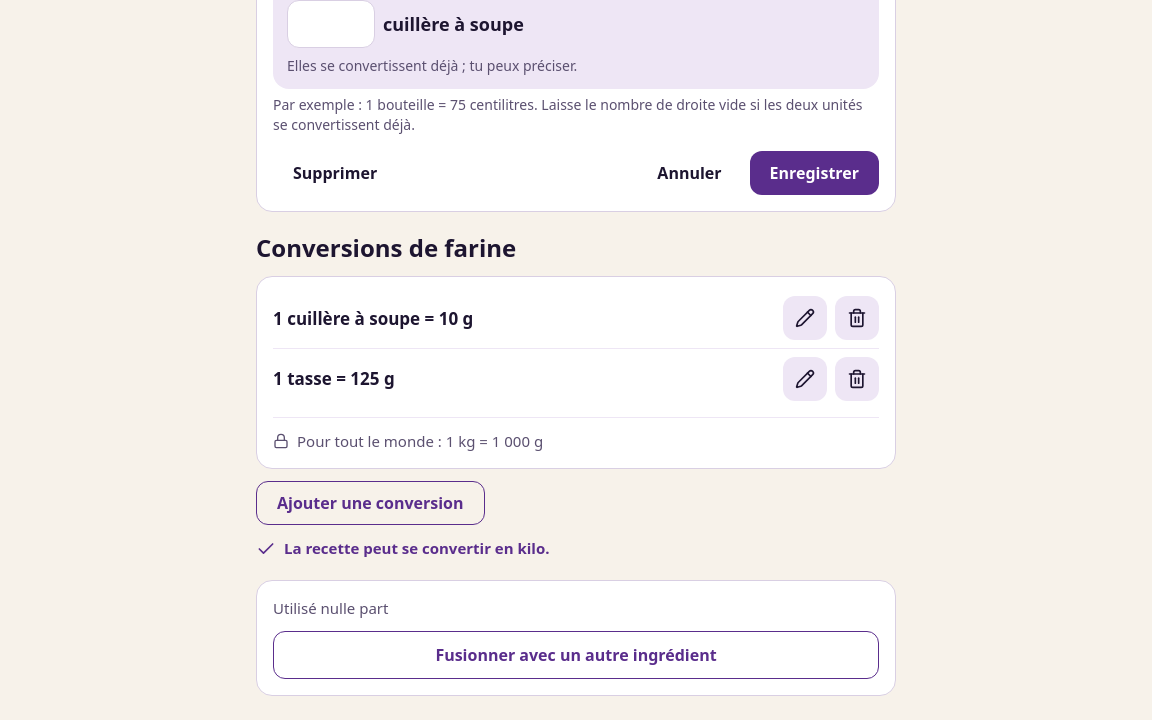
Test: Conversions de l’ingrédient › demande de choisir l’unité d’arrivée quand l’ingrédient a la même unité d’achat et de recette
This screenshot has width=1152, height=720.
(page scrolled)
Click the button "Ajouter une conversion" at {"x": 370, "y": 503}, box [256, 481, 484, 525]
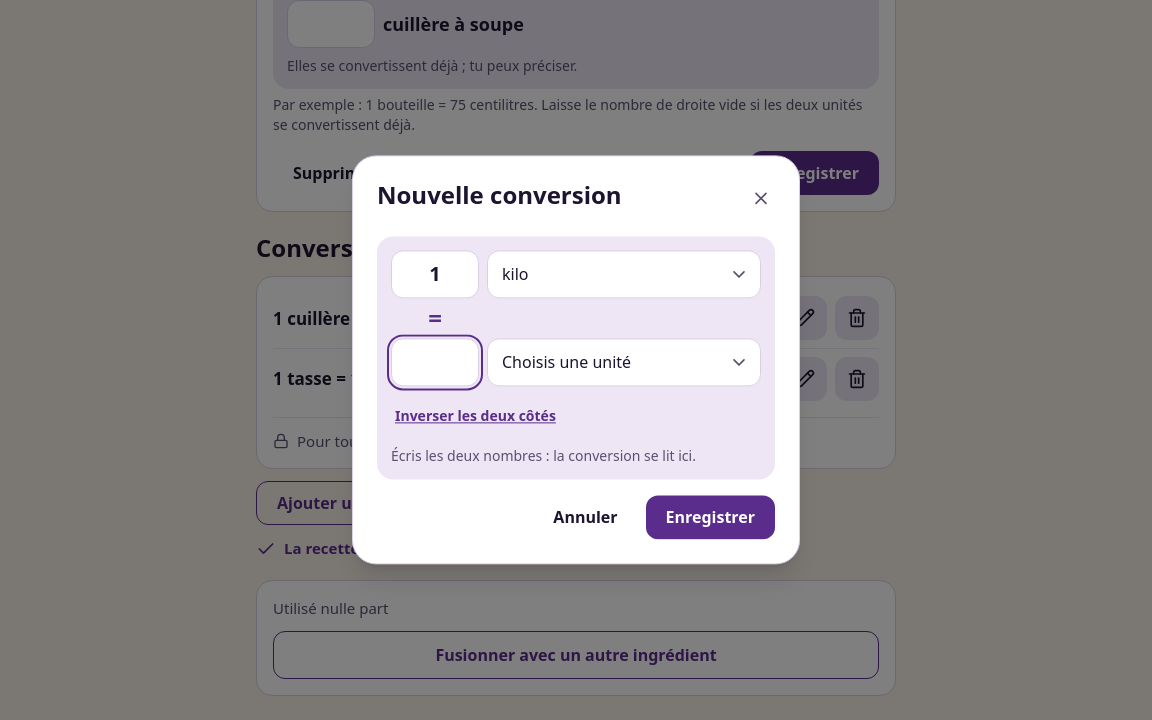
expect the dialog is shown: met, box [352, 155, 800, 565]
expect the dropdown named "Unité d" shows "Choisis une unité": met, box [487, 338, 761, 386]
Type "10" into the field named "Quantité d" at {"x": 435, "y": 362}, box [391, 338, 479, 386]
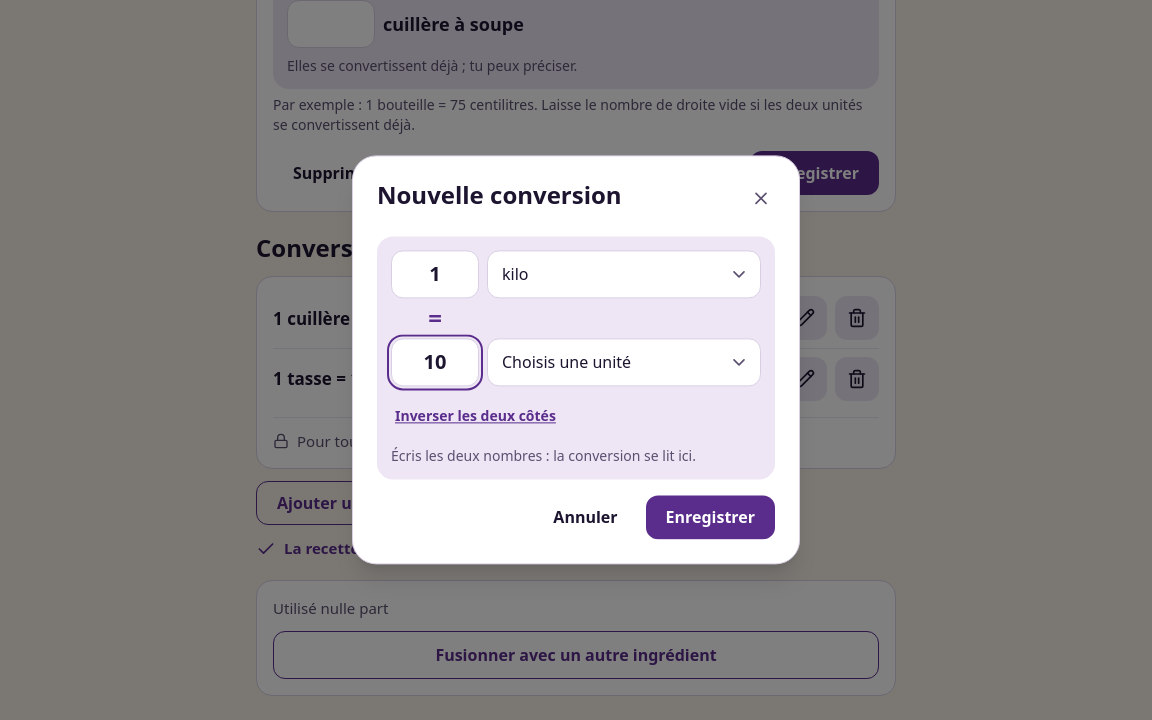
Submit the form, box [377, 236, 775, 540]
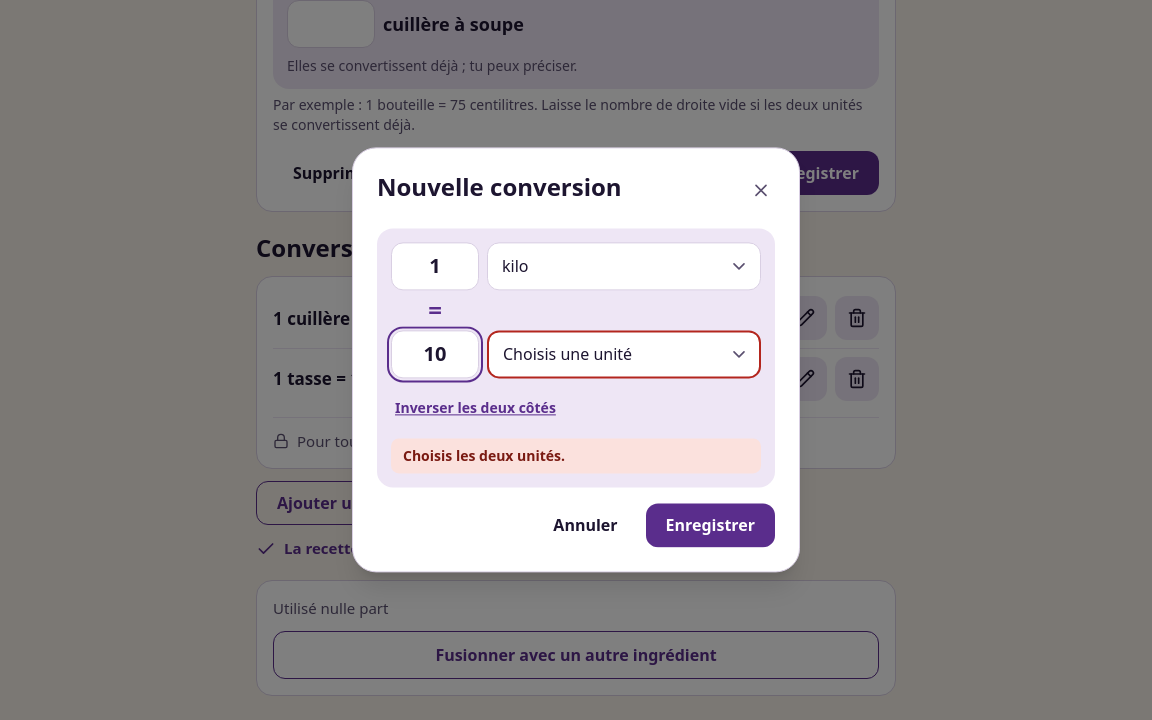
expect the element showing "Choisis les deux unités." is shown: met, box [391, 438, 761, 474]
